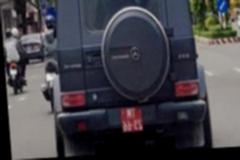License_Plate: (118, 106, 143, 132)
